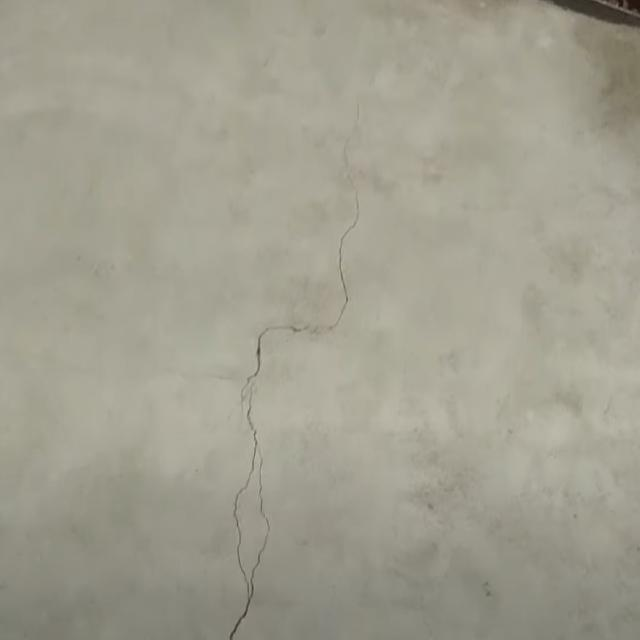Wall_Cracks: (187, 74, 380, 640)
